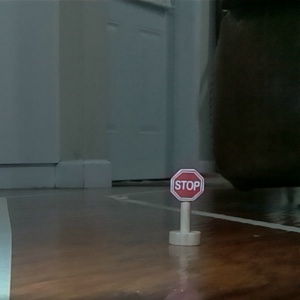stop sign: (165, 167, 206, 246)
